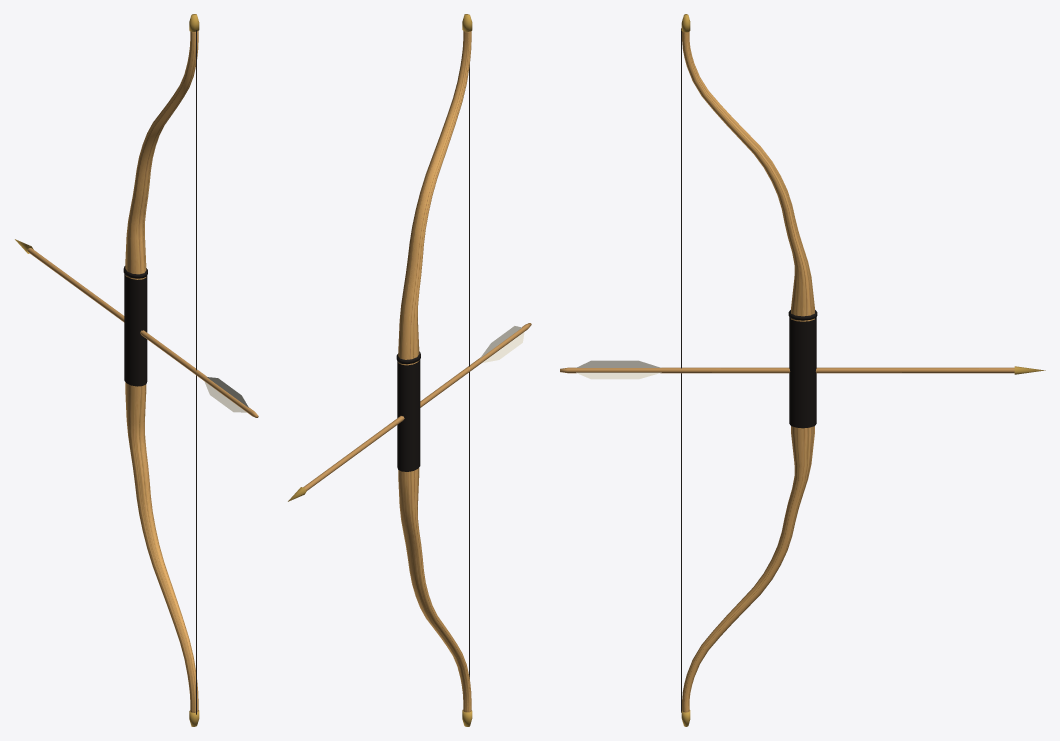
The model's file is arco.glb.
3 views of the same model, side by side, from view 1: azimuth 30°, elevation 25°; view 2: azimuth 150°, elevation 25°; view 3: azimuth 270°, elevation 25° (orthographic).
Parts seen in each view (by area): view 1: Bow, Arrow, Bow_String; view 2: Bow, Arrow, Bow_String; view 3: Bow, Arrow.
Boxes of the visible parts, left/top/right/bottom form: Bow: left=123, top=14, right=199, bottom=726; Arrow: left=15, top=239, right=258, bottom=417; Bow_String: left=196, top=30, right=196, bottom=714; Bow: left=396, top=14, right=472, bottom=726; Arrow: left=288, top=323, right=531, bottom=501; Bow_String: left=469, top=64, right=469, bottom=678; Bow: left=681, top=14, right=817, bottom=726; Arrow: left=560, top=360, right=1045, bottom=379.
Size of the model in its own units: 0.0292 by 1 by 0.62.
1 material, 1 textured.
